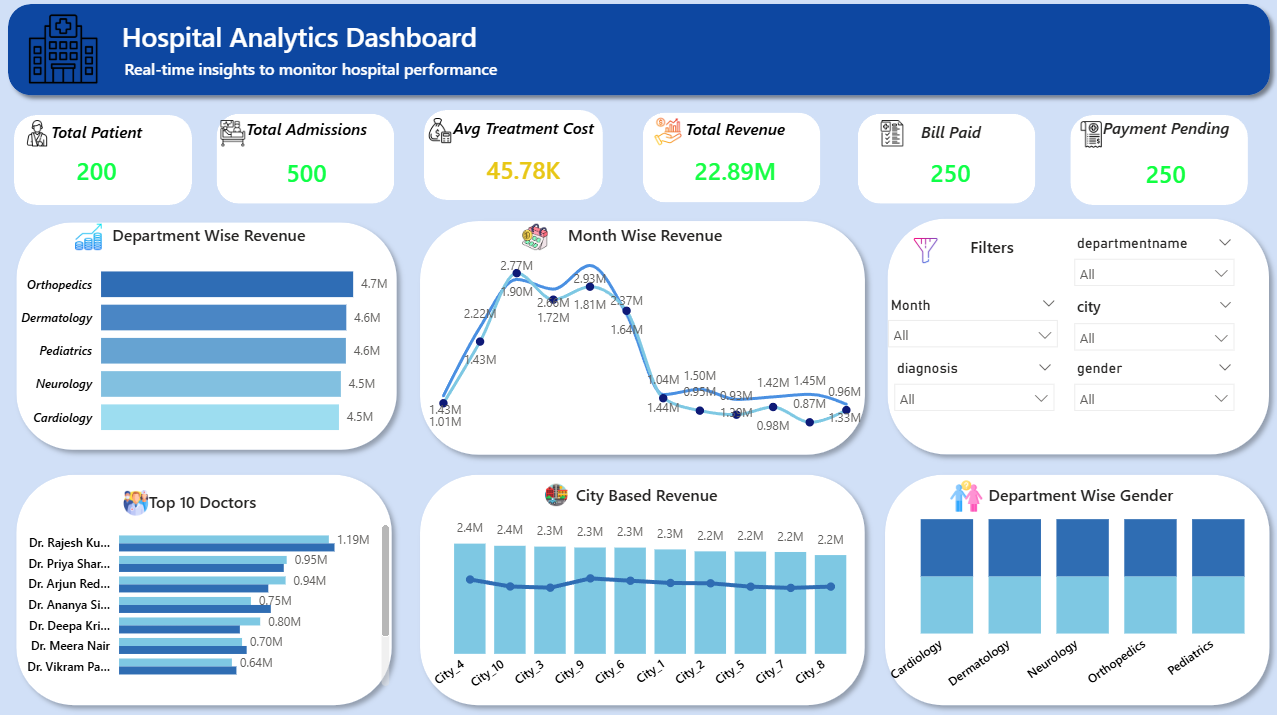

The page's visual inventory and layout, read from the dashboard file:
{"tool":"powerbi","page":{"name":"Hospital ","canvas":[1280,720],"ordinal":0},"visuals":[{"type":"shape","box":[1071.1,120,177.8,90],"z":0},{"type":"shape","box":[858.9,118.9,177.8,90],"z":1000},{"type":"shape","box":[643.3,117.8,177.8,90],"z":2000},{"type":"shape","box":[425.6,115.6,178.9,90],"z":3000},{"type":"shape","box":[217.8,118.9,177.8,90],"z":4000},{"type":"shape","box":[15.6,120,178,90],"z":5000},{"type":"shape","box":[876,470,404,250],"z":6000},{"type":"shape","box":[411.4,470,464.3,250],"z":7000},{"type":"shape","box":[7,470,395,250],"z":8000},{"type":"shape","box":[411.1,216.7,464.4,253.3],"z":9000},{"type":"shape","box":[878.9,213.3,401.1,255.6],"z":10000},{"type":"shape","box":[7.1,217.1,400,247.1],"z":11000},{"type":"cardVisual","title":"Total Patient","fields":{"Data":["patients.Total Patients"]},"box":[17.8,125,160,77.8],"z":12000},{"type":"cardVisual","title":"Total Revenue","fields":{"Data":["billing.Total Revenue"]},"box":[646.7,122.2,180,83.3],"z":13000},{"type":"cardVisual","title":"Total Admissions","fields":{"Data":["admissions.Total Admissions"]},"box":[218,122,180,87],"z":14000},{"type":"cardVisual","title":"Avg Treatment Cost","fields":{"Data":["billing.Average Treatment Cost"]},"box":[426.7,121.1,196.7,82.2],"z":15000},{"type":"barChart","title":"Department Wise Revenue","fields":{"Category":["departments.departmentname"],"Y":["billing.Total Revenue"]},"box":[15.7,228.6,387.1,225.7],"z":16000},{"type":"lineChart","title":"Month Wise Revenue","fields":{"Category":["admissions.admitdate.Variation.Date Hierarchy.Month"],"Y":["billing.Total Revenue"],"Y2":["Sum(billing.treatmentcost)"]},"box":[425.6,228.9,442.2,215.6],"z":17000},{"type":"cardVisual","title":"Payment Pending","fields":{"Data":["billing.Not Paid Bills"]},"box":[1073.3,121.1,186.7,90],"z":18000},{"type":"cardVisual","title":"Bill Paid","fields":{"Data":["billing.Bill Paid"]},"box":[867.8,125.6,168.9,82.2],"z":19000},{"type":"clusteredBarChart","title":"Top 10 Doctors","fields":{"Category":["doctors.doctorname"],"Series":["patients.gender"],"Y":["billing.Total Revenue"]},"box":[11.1,495.6,384.4,201.1],"z":20000},{"type":"lineClusteredColumnComboChart","title":"City Based Revenue","fields":{"Category":["patients.city"],"Y":["billing.Total Revenue"],"Y2":["Sum(billing.treatmentcost)"]},"box":[425.7,488.6,442.9,224.3],"z":21000},{"type":"lineStackedColumnComboChart","title":"Department Wise Gender","fields":{"Category":["departments.departmentname"],"Y":["patients.Total Patients"],"Series":["patients.gender"]},"box":[884,489,396,216],"z":22000},{"type":"slicer","fields":{"Values":["departments.departmentname"]},"box":[1065.6,234.4,180,62.2],"z":23000},{"type":"slicer","fields":{"Values":["patients.gender"]},"box":[1065.6,360,180,63.3],"z":24000},{"type":"slicer","fields":{"Values":["patients.city"]},"box":[1065.6,296.7,180,63.3],"z":25000},{"type":"slicer","fields":{"Values":["admissions.diagnosis"]},"box":[884.4,360,180,63.3],"z":26000},{"type":"slicer","fields":{"Values":["admissions.admitdate.Variation.Date Hierarchy.Month"]},"box":[878.9,296.7,190,63.3],"z":27000},{"type":"shape","box":[0,0,1280,109.2],"z":28000},{"type":"textbox","box":[15.6,7.8,1244.4,84.4],"z":29000},{"type":"image","box":[16.2,19.2,96.2,70],"z":30000},{"type":"image","box":[217.8,124.4,33.3,26.7],"z":31000},{"type":"image","box":[22.2,125,31.1,26.7],"z":32000},{"type":"image","box":[425.6,121.1,32.2,28.9],"z":33000},{"type":"image","box":[643.3,122.2,50,27.8],"z":34000},{"type":"image","box":[875.6,125.6,35.6,26.7],"z":35000},{"type":"image","box":[1077.8,126.7,30,26.7],"z":36000},{"type":"textbox","title":"Filters","box":[966.7,240,81.1,31.1],"z":37000},{"type":"image","box":[906.7,240,41.1,31.1],"z":38000},{"type":"image","box":[65.6,228.9,48.9,26.7],"z":39000},{"type":"image","box":[515.6,228.9,41.1,26.7],"z":40000},{"type":"image","box":[104.4,495.6,63.3,25.6],"z":41000},{"type":"image","box":[532.2,488.9,50,22.2],"z":42000},{"type":"image","box":[942.2,484.4,50,32.2],"z":43000}]}

Visuals, with their boxes in screenshot pixels (x1, y1, x2, y2), scaled from the page's 1280x720 canvas onto the 1277x715 screenshot:
shape: Rect(1069, 119, 1246, 209)
shape: Rect(857, 118, 1034, 207)
shape: Rect(642, 117, 819, 206)
shape: Rect(425, 115, 603, 204)
shape: Rect(217, 118, 395, 207)
shape: Rect(16, 119, 193, 209)
shape: Rect(874, 467, 1276, 714)
shape: Rect(410, 467, 874, 714)
shape: Rect(7, 467, 401, 714)
shape: Rect(410, 215, 873, 467)
shape: Rect(877, 212, 1276, 466)
shape: Rect(7, 216, 406, 461)
"Total Patient" cardVisual: Rect(18, 124, 177, 201)
"Total Revenue" cardVisual: Rect(645, 121, 825, 204)
"Total Admissions" cardVisual: Rect(217, 121, 397, 208)
"Avg Treatment Cost" cardVisual: Rect(426, 120, 622, 202)
"Department Wise Revenue" barChart: Rect(16, 227, 402, 451)
"Month Wise Revenue" lineChart: Rect(425, 227, 866, 441)
"Payment Pending" cardVisual: Rect(1071, 120, 1257, 210)
"Bill Paid" cardVisual: Rect(866, 125, 1034, 206)
"Top 10 Doctors" clusteredBarChart: Rect(11, 492, 395, 692)
"City Based Revenue" lineClusteredColumnComboChart: Rect(425, 485, 867, 708)
"Department Wise Gender" lineStackedColumnComboChart: Rect(882, 486, 1276, 700)
slicer - departments.departmentname: Rect(1063, 233, 1243, 295)
slicer - patients.gender: Rect(1063, 358, 1243, 420)
slicer - patients.city: Rect(1063, 295, 1243, 358)
slicer - admissions.diagnosis: Rect(882, 358, 1062, 420)
slicer - admissions.admitdate.Variation.Date Hierarchy.Month: Rect(877, 295, 1066, 358)
shape: Rect(0, 0, 1276, 108)
textbox: Rect(16, 8, 1257, 92)
image: Rect(16, 19, 112, 89)
image: Rect(217, 124, 251, 150)
image: Rect(22, 124, 53, 151)
image: Rect(425, 120, 457, 149)
image: Rect(642, 121, 692, 149)
image: Rect(874, 125, 909, 151)
image: Rect(1075, 126, 1105, 152)
"Filters" textbox: Rect(964, 238, 1045, 269)
image: Rect(905, 238, 946, 269)
image: Rect(65, 227, 114, 254)
image: Rect(514, 227, 555, 254)
image: Rect(104, 492, 167, 518)
image: Rect(531, 486, 581, 508)
image: Rect(940, 481, 990, 513)
